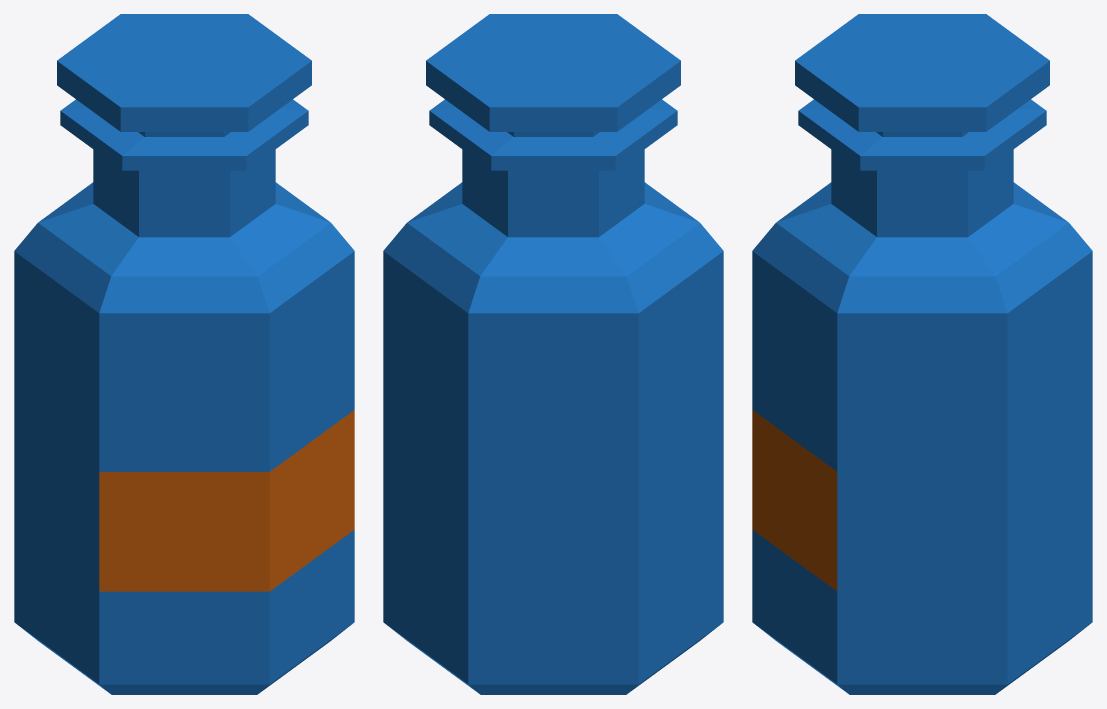
The model's file is jar-laboratory-a-full.fbx.
The picture shows the model from 3 angles, left to right: view 1: azimuth 30°, elevation 25°; view 2: azimuth 150°, elevation 25°; view 3: azimuth 270°, elevation 25°; orthographic projection.
Parts seen in each view (by area): view 1: jar-laboratory-a-full; view 2: jar-laboratory-a-full; view 3: jar-laboratory-a-full.
Boxes of the visible parts, bbox=[...] form: jar-laboratory-a-full: bbox=[14, 14, 354, 694]; jar-laboratory-a-full: bbox=[383, 14, 723, 694]; jar-laboratory-a-full: bbox=[752, 14, 1092, 694].
Size of the model in its own units: 138 by 300 by 160.
